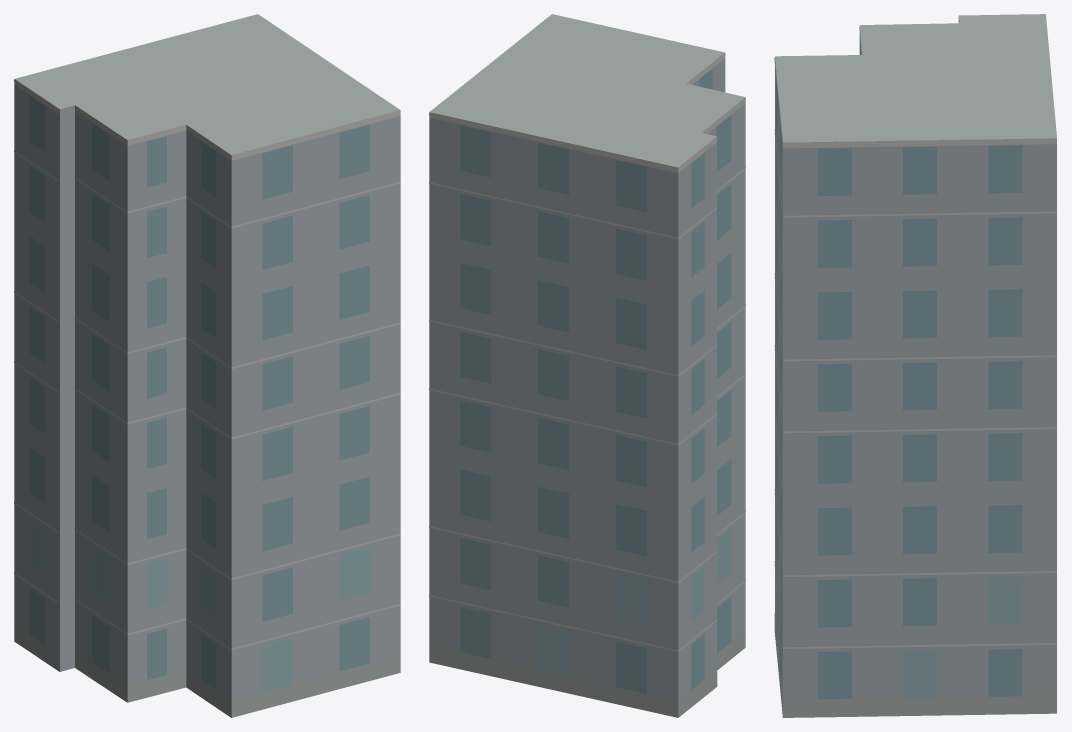
Rendered from survey-upis-32962992.glb.
3 renders of one model, left to right at view 1: azimuth 30°, elevation 25°; view 2: azimuth 150°, elevation 25°; view 3: azimuth 270°, elevation 25°, orthographic. The views are drawn at different scales.
Parts seen in each view (by area): view 1: survey-upis-32962992.tmp; view 2: survey-upis-32962992.tmp; view 3: survey-upis-32962992.tmp.
Boxes of the visible parts, <box> form: survey-upis-32962992.tmp: <box>14,14,400,717</box>; survey-upis-32962992.tmp: <box>429,14,745,717</box>; survey-upis-32962992.tmp: <box>774,14,1056,717</box>.
Size of the model in its own units: 11.58 by 24.1 by 10.75.
